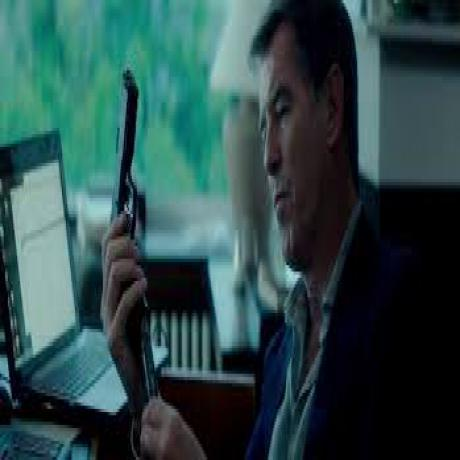Guns: (112, 65, 140, 247)
